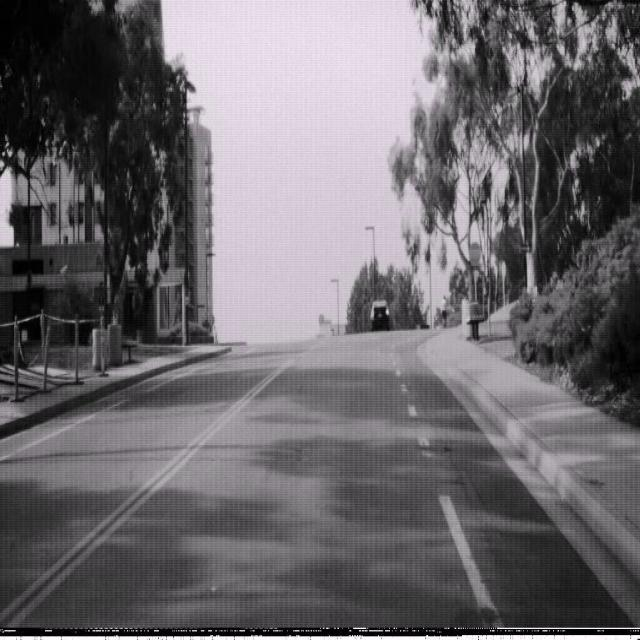stop_sign: (468, 240, 481, 268)
